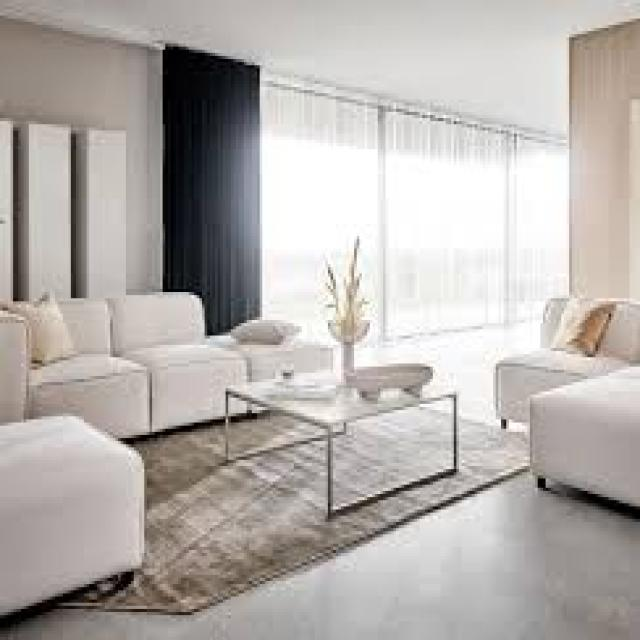Sofa: (0, 278, 334, 428), (492, 291, 640, 503), (0, 426, 151, 598)
Table: (218, 372, 470, 499)
